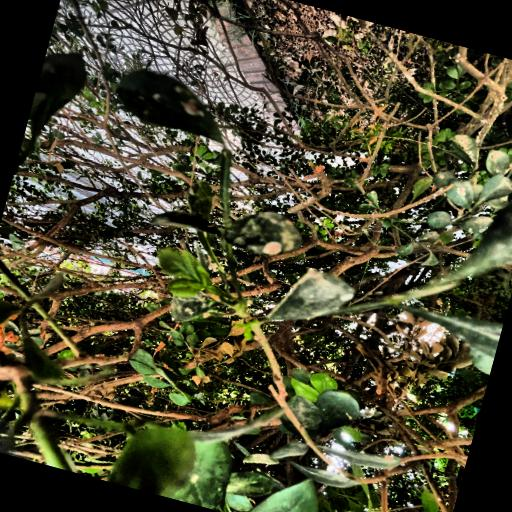la dom: (89, 46, 256, 156)
la xanh: (0, 281, 331, 512)
